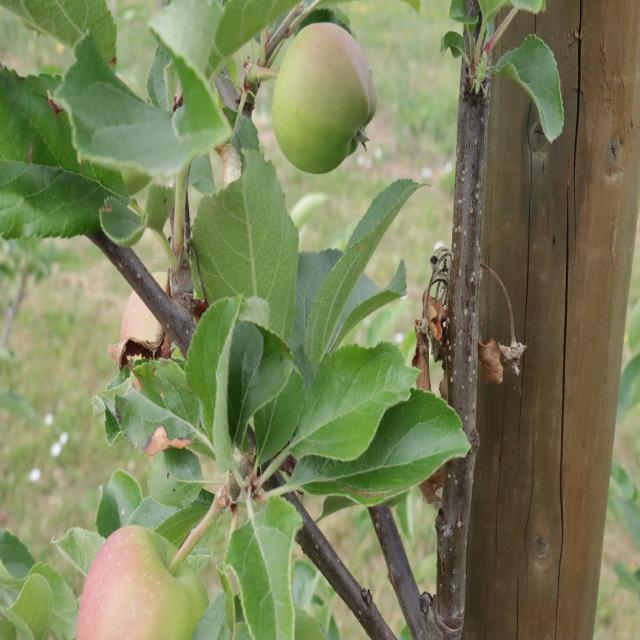-FireBlight-: (479, 258, 526, 386), (410, 258, 450, 384)
